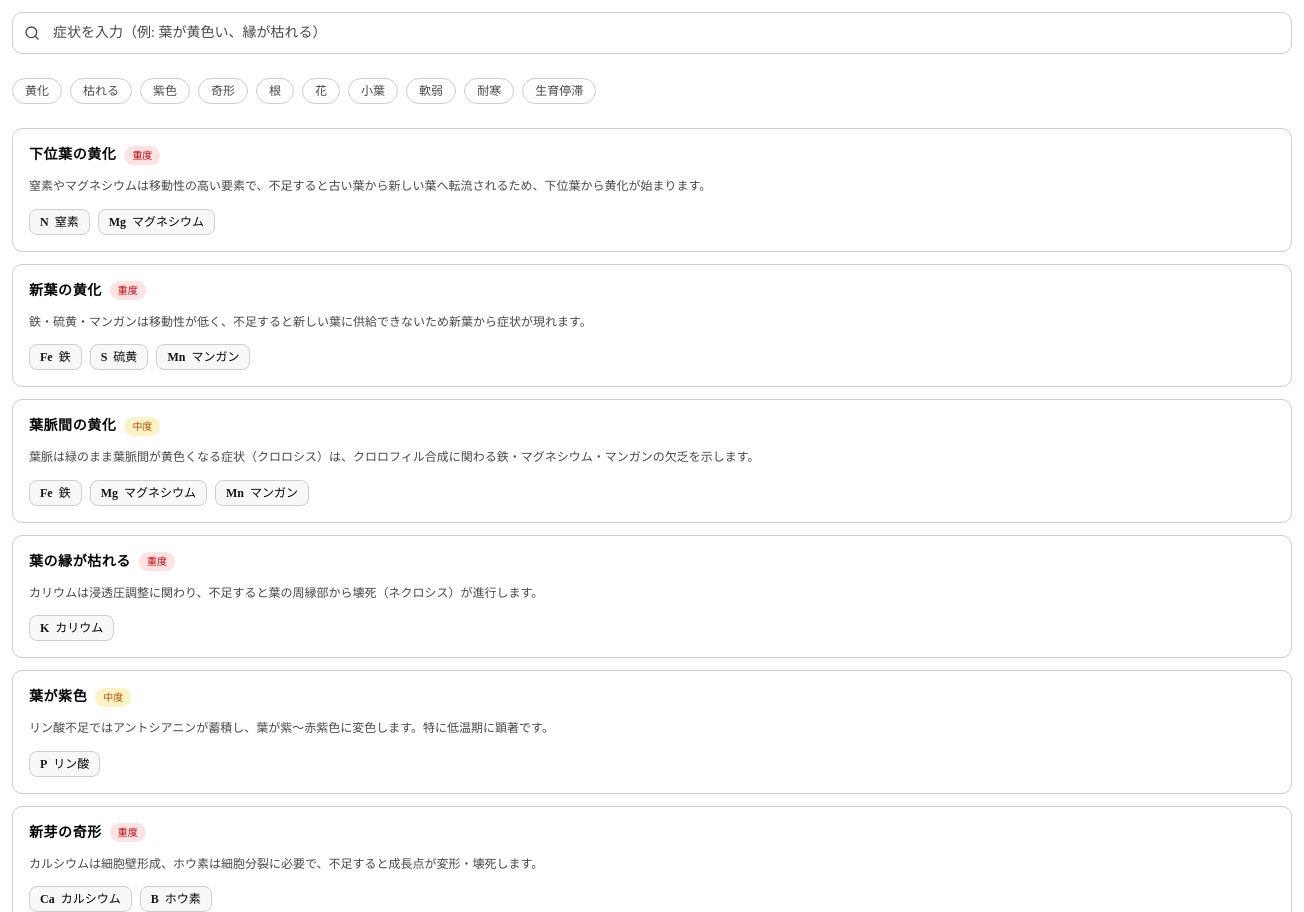
NutrientSymptomSearch › タグボタンをクリックするとクエリが設定され絞り込まれる
What coordinates should you click on to do the following:
click the button "紫色"
I would click on:
 (165, 91)
Its box is [140, 78, 190, 104].
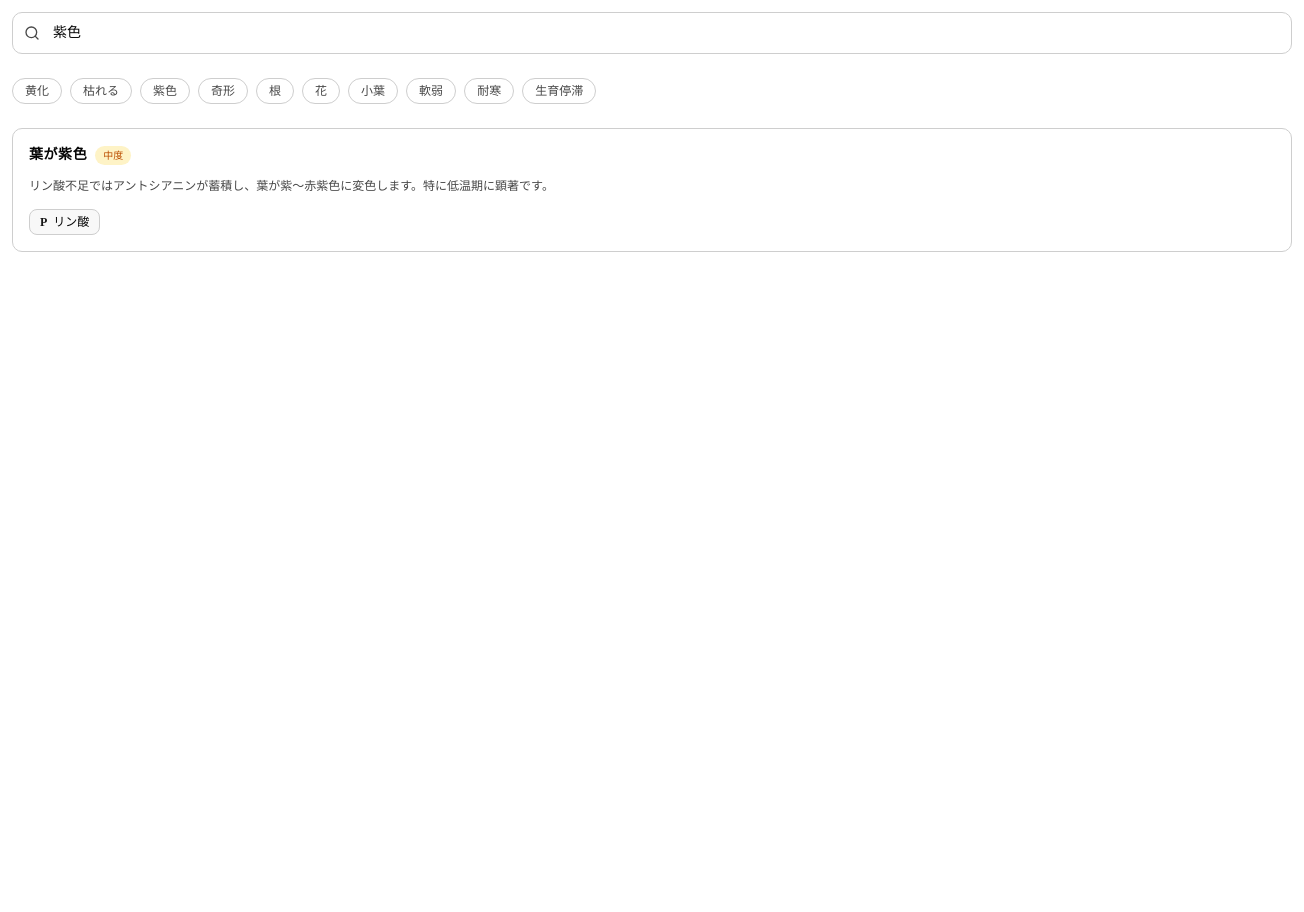
Expected: the heading "葉が紫色" is shown, [29, 145, 87, 165]
Result: the field with placeholder "症状を入力（例: 葉が黄色い、縁が枯れる）" holds "紫色" at [12, 12, 1292, 54]
